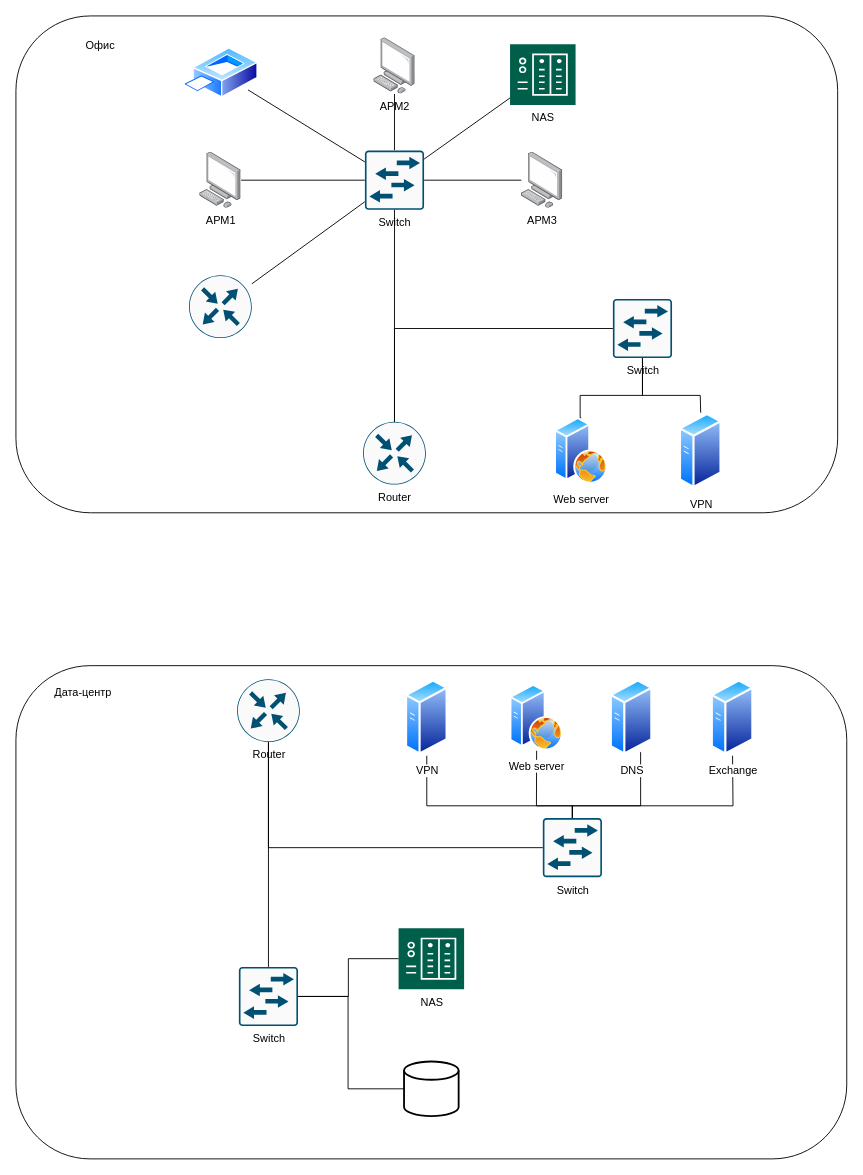
The diagram is 863 pixels wide and 1175 high, and some of its shapes have lost their labels. The shapes that lost their labels are listed below. From the top down, each one's centre as x and y in pixels, then its label:
(x=220, y=72): МФУ
(x=220, y=306): Access Point
(x=431, y=1088): DB
